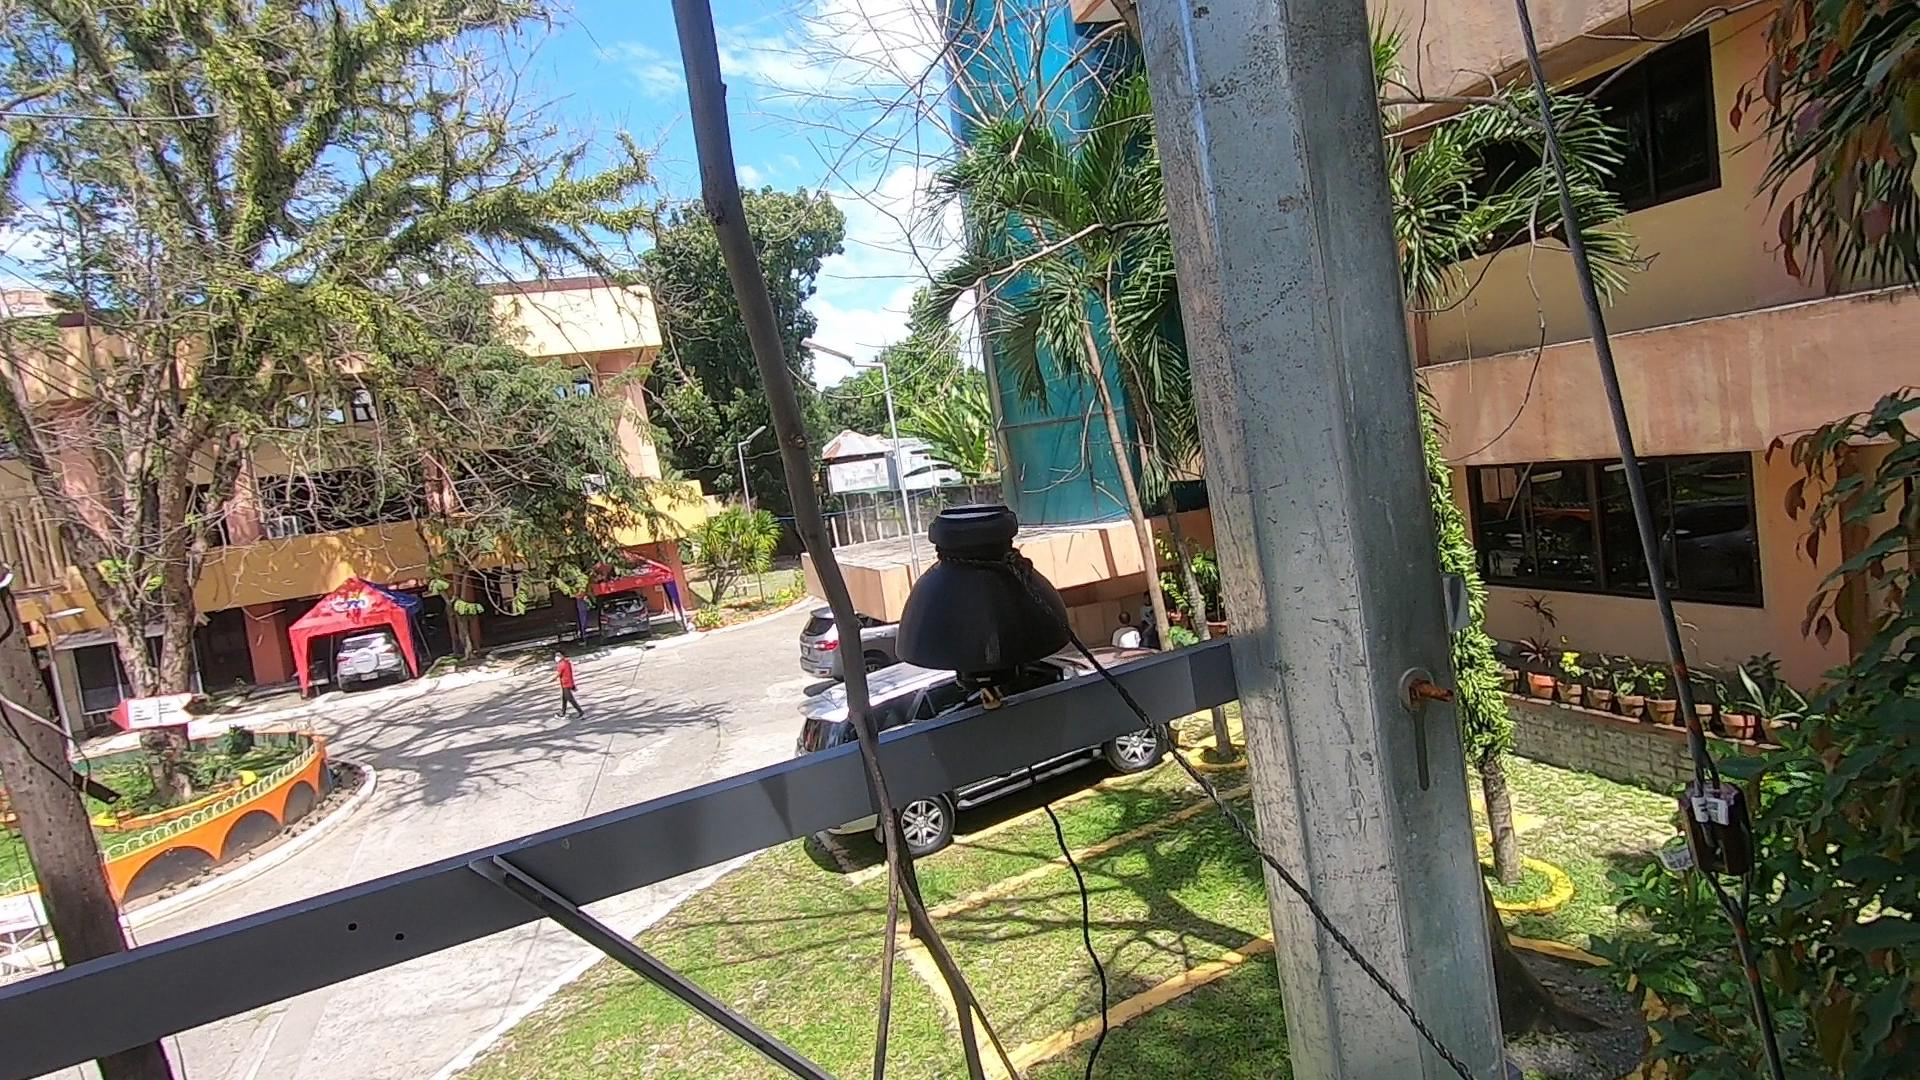tree branch: (622, 3, 1033, 1077)
